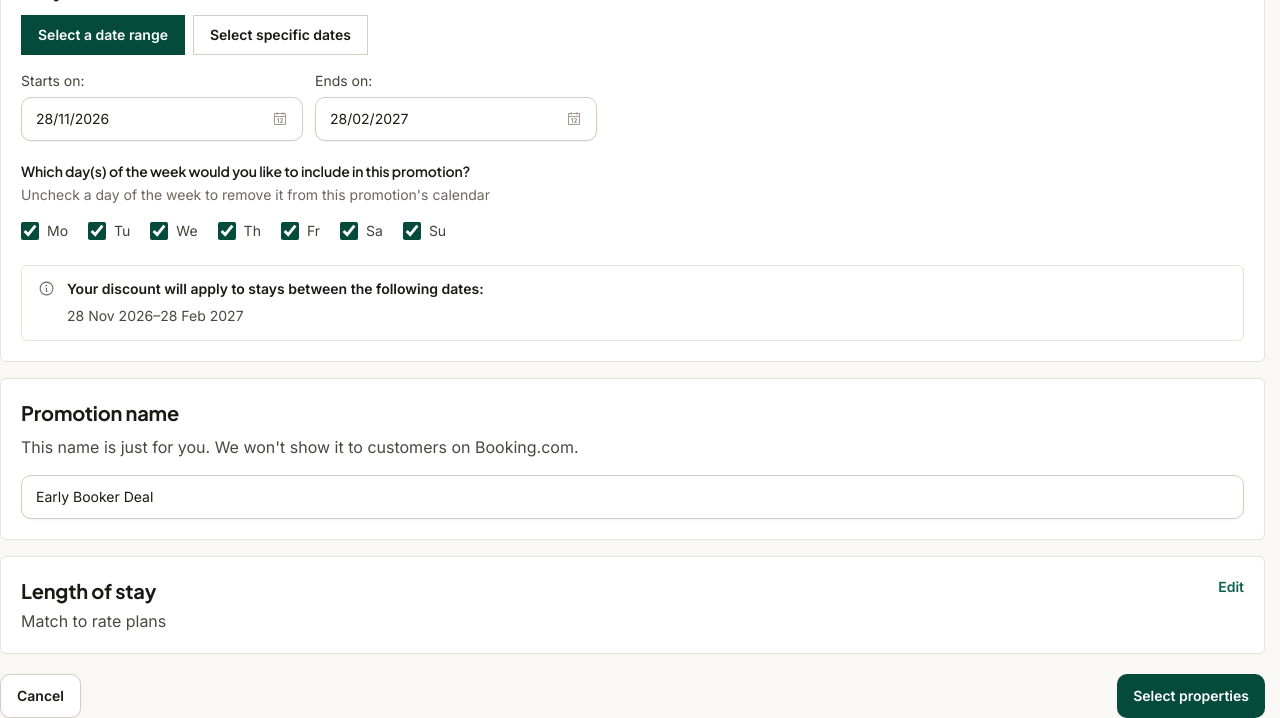
length of stay editor › saves a selected minimum stay
(page scrolled)
Click the button "Edit" at x=1231, y=586, box [1218,576,1244,596]
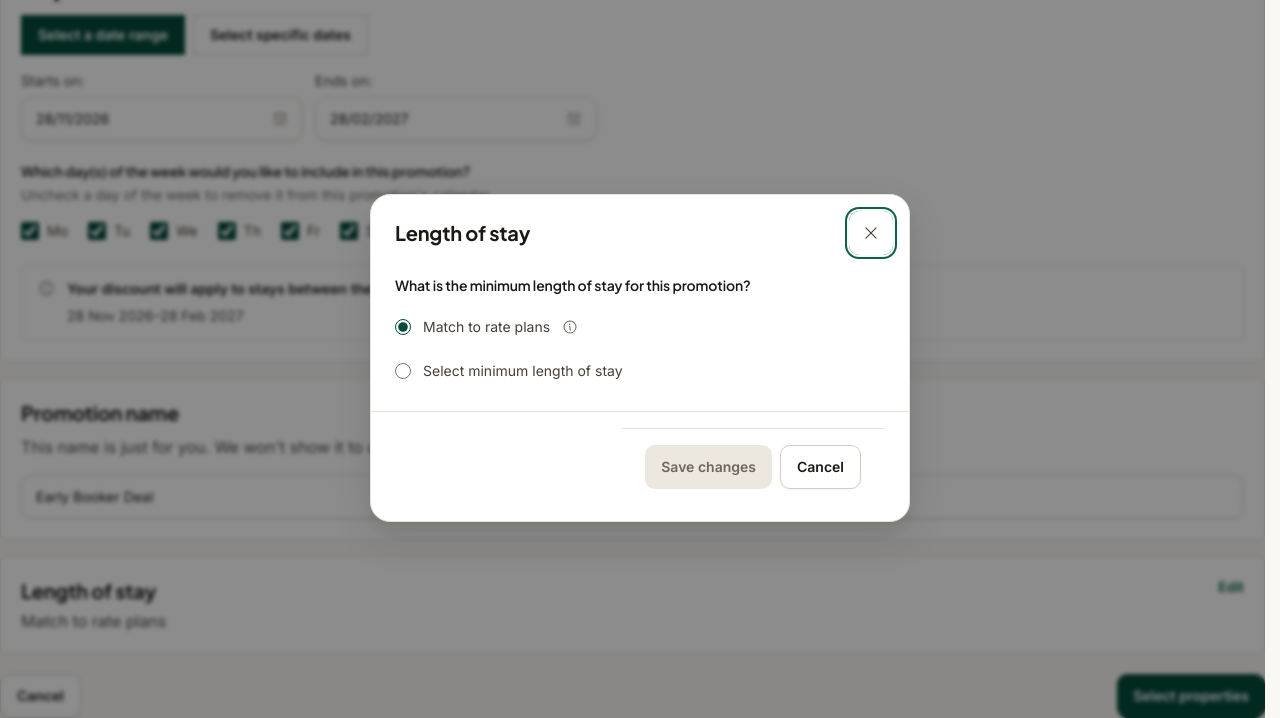
Expected: the heading "Length of stay" is shown, [395,219,530,247]
Expected: the button "Save changes" is disabled, [645,445,772,489]
Click the radio button labelled "Select minimum length of stay" at x=403, y=371, box [395,363,411,379]
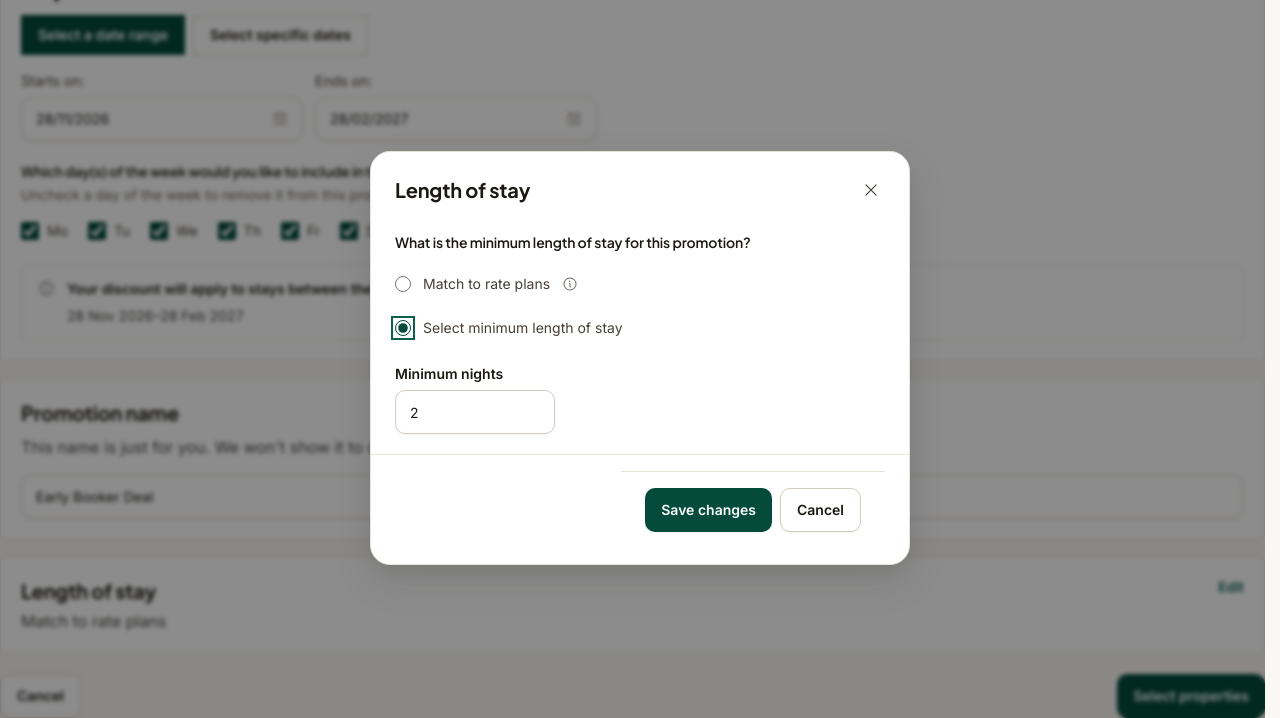
Expected: the button "Save changes" is enabled
Click the button "Save changes" at x=709, y=510, box [645,488,772,532]
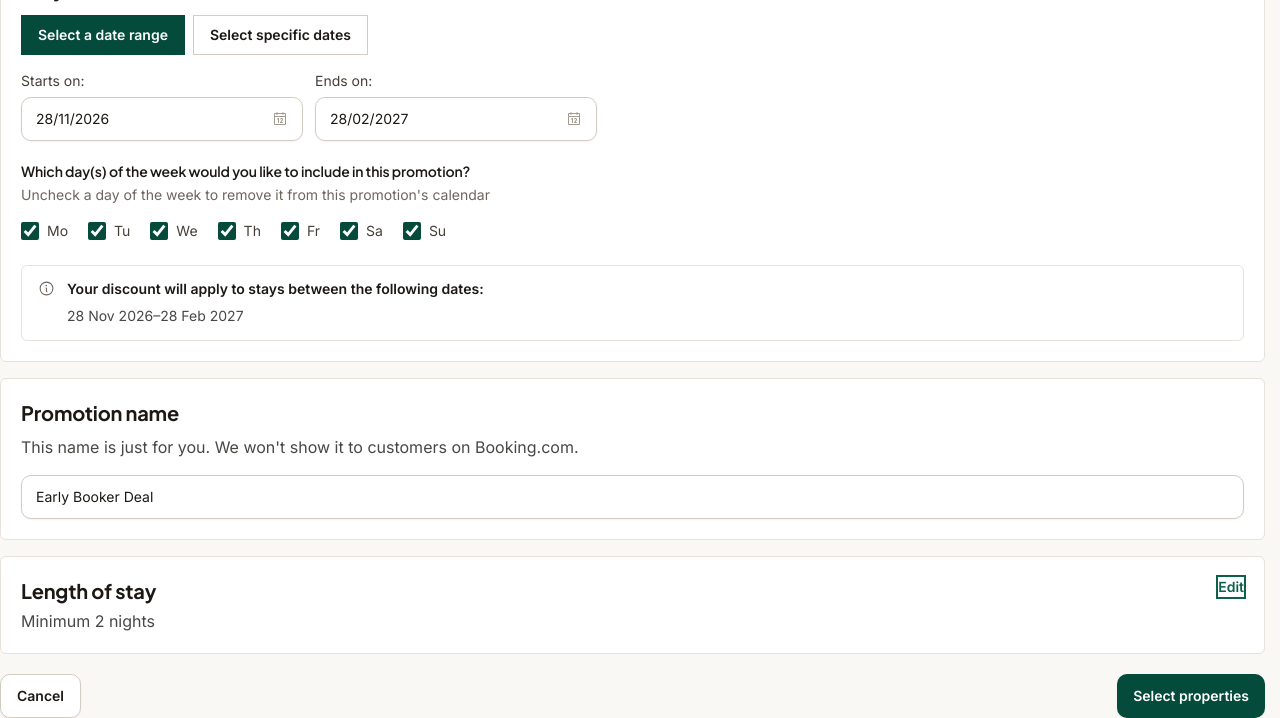
Expected: the text "Minimum 2 nights" is shown, [21,608,156,632]
